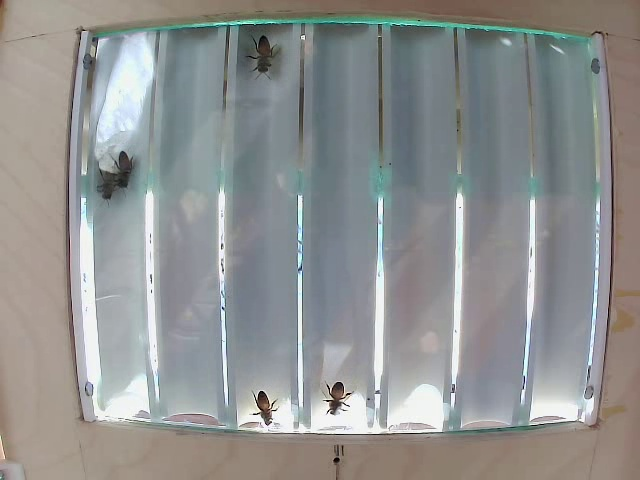bee: (311, 375, 355, 420), (241, 385, 278, 425), (103, 154, 142, 186), (254, 39, 286, 76)
